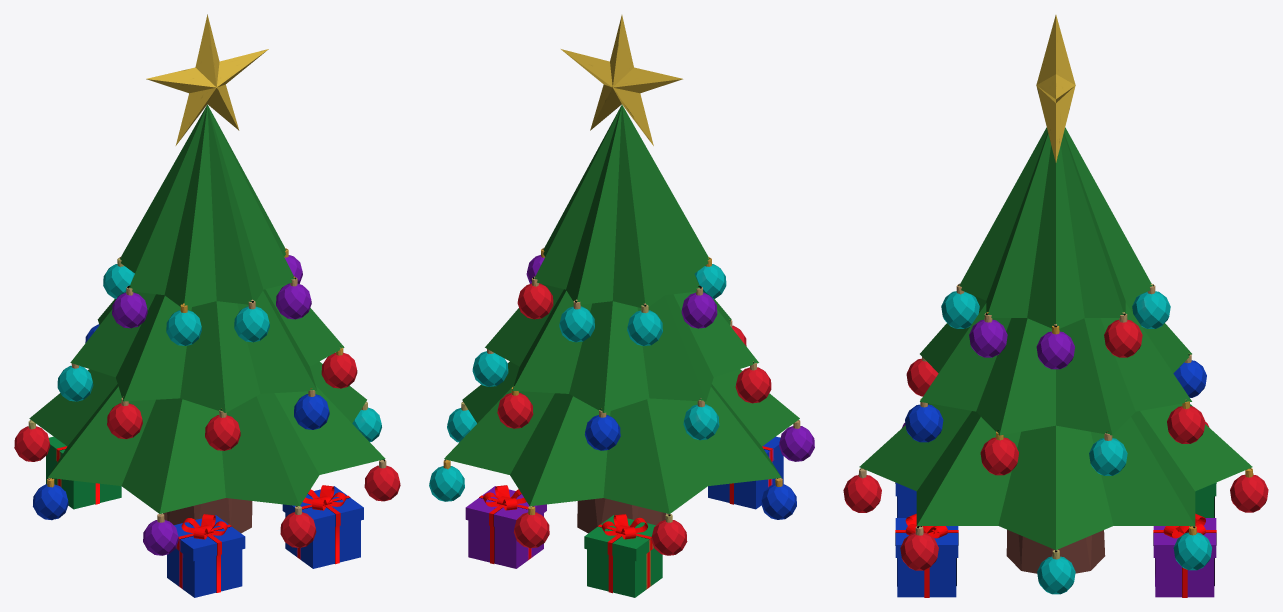
File: ArbolNavideño.fbx
3 renders of one model, left to right at view 1: azimuth 30°, elevation 25°; view 2: azimuth 150°, elevation 25°; view 3: azimuth 270°, elevation 25°, orthographic. The views are drawn at different scales.
Visible parts, largest first — view 1: Arbol; view 2: Arbol; view 3: Arbol.
Boxes of the visible parts, x1,y1,x2,y2 form: Arbol: [14, 14, 400, 597]; Arbol: [429, 15, 814, 597]; Arbol: [843, 15, 1268, 597].
Size of the model in its own units: 4.32 by 6.08 by 4.32.
Materials: 1 (1 with a texture image).
